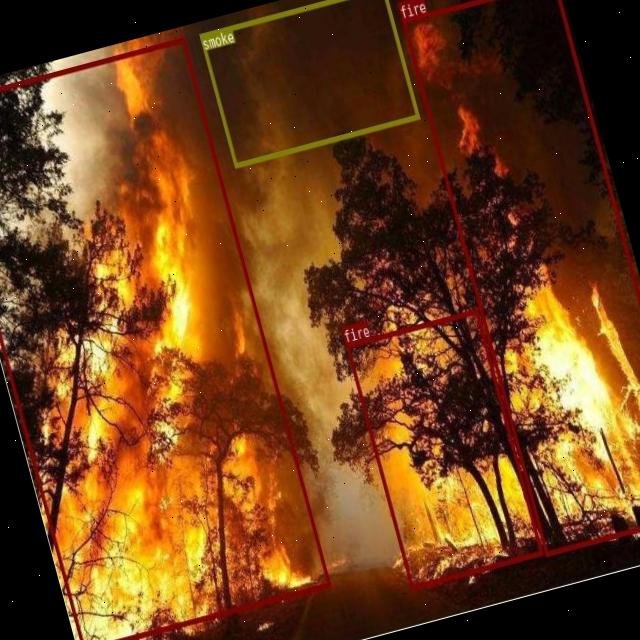fire: (0, 36, 330, 640), (401, 0, 640, 556), (345, 307, 542, 589)
smoke: (198, 0, 419, 168)
